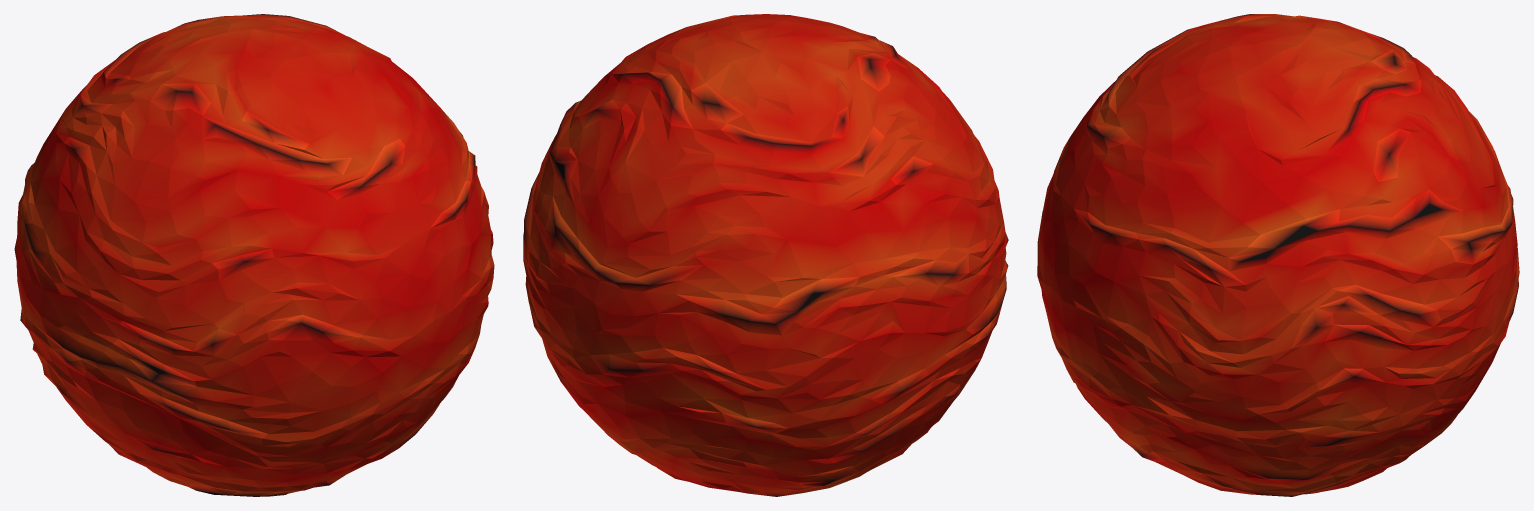
The model's file is volcanic_planet_1.fbx.
The picture shows the model from 3 angles, left to right: view 1: azimuth 30°, elevation 25°; view 2: azimuth 150°, elevation 25°; view 3: azimuth 270°, elevation 25°; orthographic projection.
Visible parts, largest first — view 1: filecache2; view 2: filecache2; view 3: filecache2.
Boxes of the visible parts, bbox=[...] form: filecache2: bbox=[14, 14, 494, 496]; filecache2: bbox=[523, 14, 1008, 496]; filecache2: bbox=[1037, 14, 1519, 496].
Bounding box in the file's own units: 2.01 × 2.02 × 2.02.
